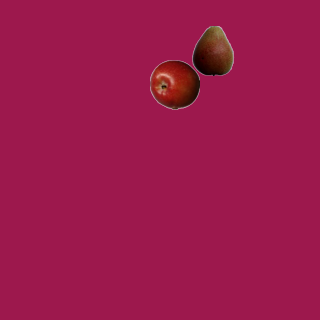Apple Braeburn: (149, 59, 199, 109)
Pear Forelle: (187, 25, 237, 75)
